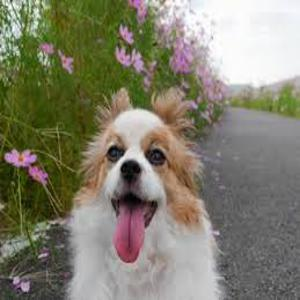yell: (66, 87, 222, 300)
